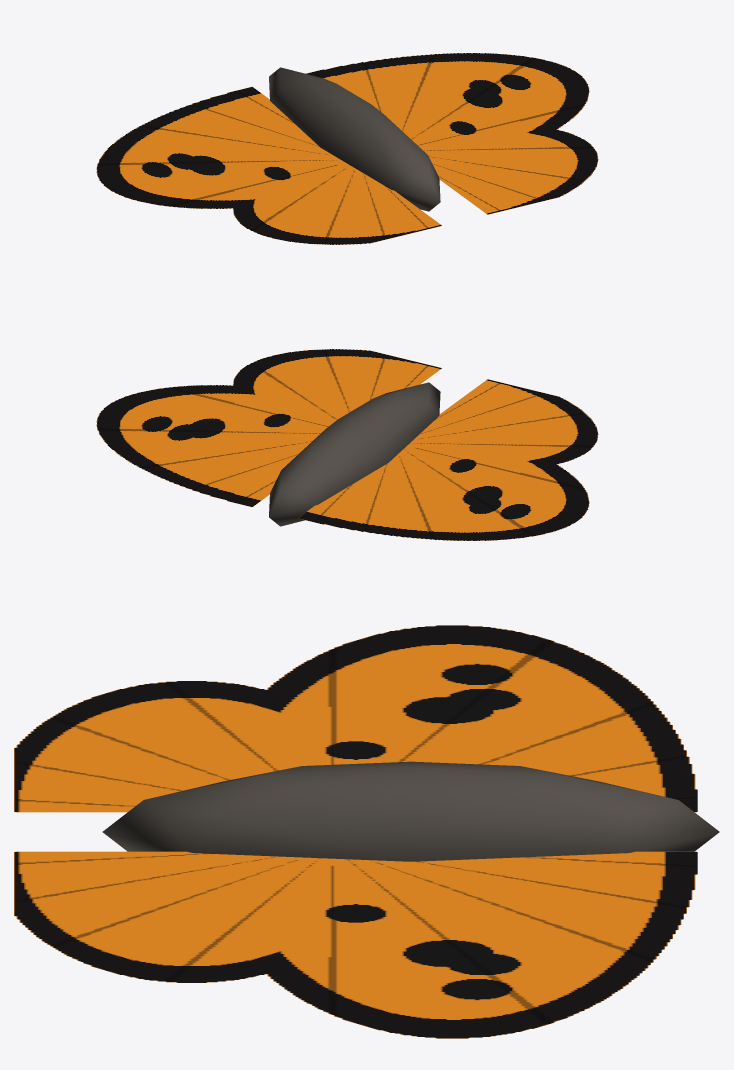
The model's file is Butterfly_Monarch.glb.
3 renders of one model, top to bottom at view 1: azimuth 30°, elevation 25°; view 2: azimuth 150°, elevation 25°; view 3: azimuth 270°, elevation 25°, orthographic. The views are drawn at different scales.
Visible parts, largest first — view 1: WingL, WingR, Butterfly_Monarch; view 2: WingL, WingR, Butterfly_Monarch; view 3: WingR, WingL, Butterfly_Monarch.
Boxes of the visible parts, x1=… form: WingL: x1=96, y1=87, x2=441, y2=244; WingR: x1=306, y1=53, x2=598, y2=214; Butterfly_Monarch: x1=269, y1=67, x2=440, y2=211; WingL: x1=298, y1=379, x2=598, y2=540; WingR: x1=96, y1=349, x2=441, y2=506; Butterfly_Monarch: x1=269, y1=382, x2=440, y2=526; WingR: x1=14, y1=851, x2=697, y2=1038; WingL: x1=14, y1=625, x2=697, y2=812; Butterfly_Monarch: x1=102, y1=761, x2=719, y2=861.
Size of the model in its own units: 0.12 by 0.016 by 0.08.
Materials: 2 (1 with a texture image).
